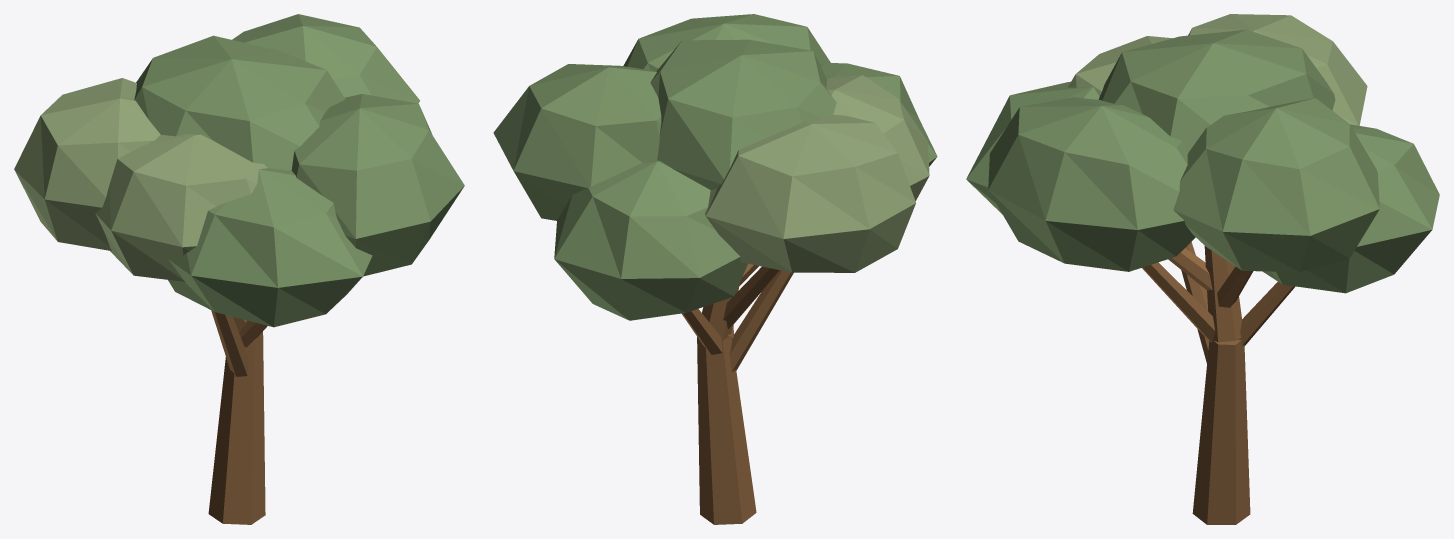
Rendered from komachi-broadleaf.glb.
3 views of the same model, side by side, from view 1: azimuth 30°, elevation 25°; view 2: azimuth 150°, elevation 25°; view 3: azimuth 270°, elevation 25° (orthographic).
Parts seen in each view (by area): view 1: Komachi_broadleaf; view 2: Komachi_broadleaf; view 3: Komachi_broadleaf.
Boxes of the visible parts, x1,y1,x2,y2 form: Komachi_broadleaf: (14, 14, 464, 524); Komachi_broadleaf: (493, 14, 937, 524); Komachi_broadleaf: (966, 14, 1439, 524).
Size of the model in its own units: 0.8214 by 0.9453 by 0.8699.
